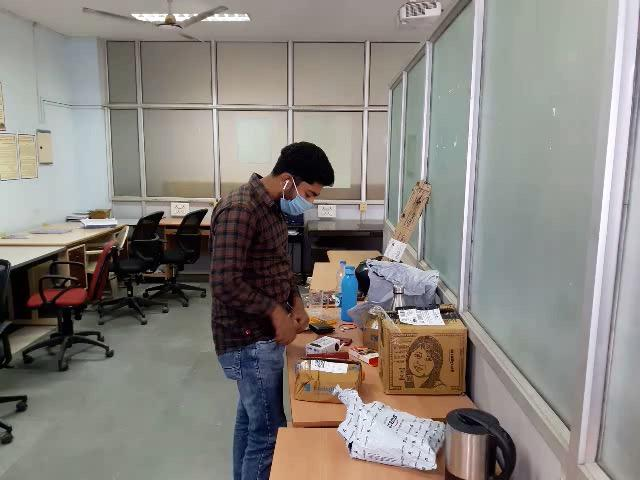shoplifting: (240, 291, 312, 375)
